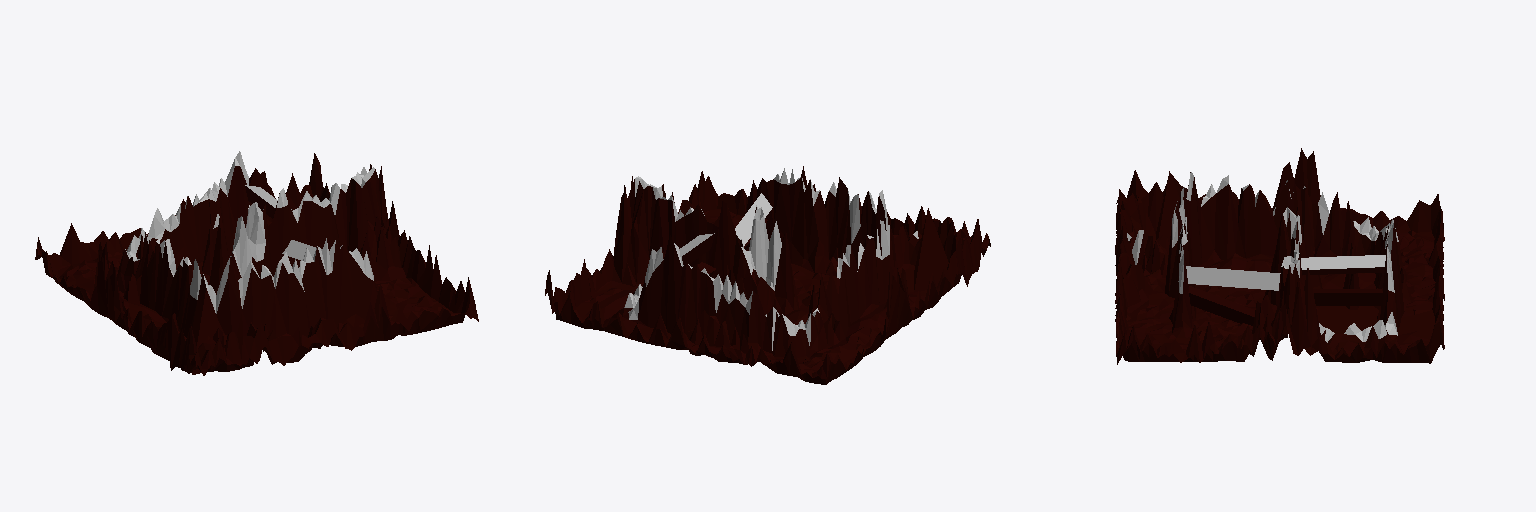
The model's file is TFLV3.obj.
3 renders of one model, left to right at view 1: azimuth 30°, elevation 25°; view 2: azimuth 150°, elevation 25°; view 3: azimuth 270°, elevation 25°, orthographic.
Visible parts, largest first — view 1: Terrain_TF3; view 2: Terrain_TF3; view 3: Terrain_TF3.
Part boxes in pixels (left/top/right/bottom): Terrain_TF3: left=35, top=151, right=478, bottom=375; Terrain_TF3: left=545, top=166, right=990, bottom=384; Terrain_TF3: left=1115, top=148, right=1444, bottom=364.
Bounding box in the file's own units: 2544 × 913 × 2529.